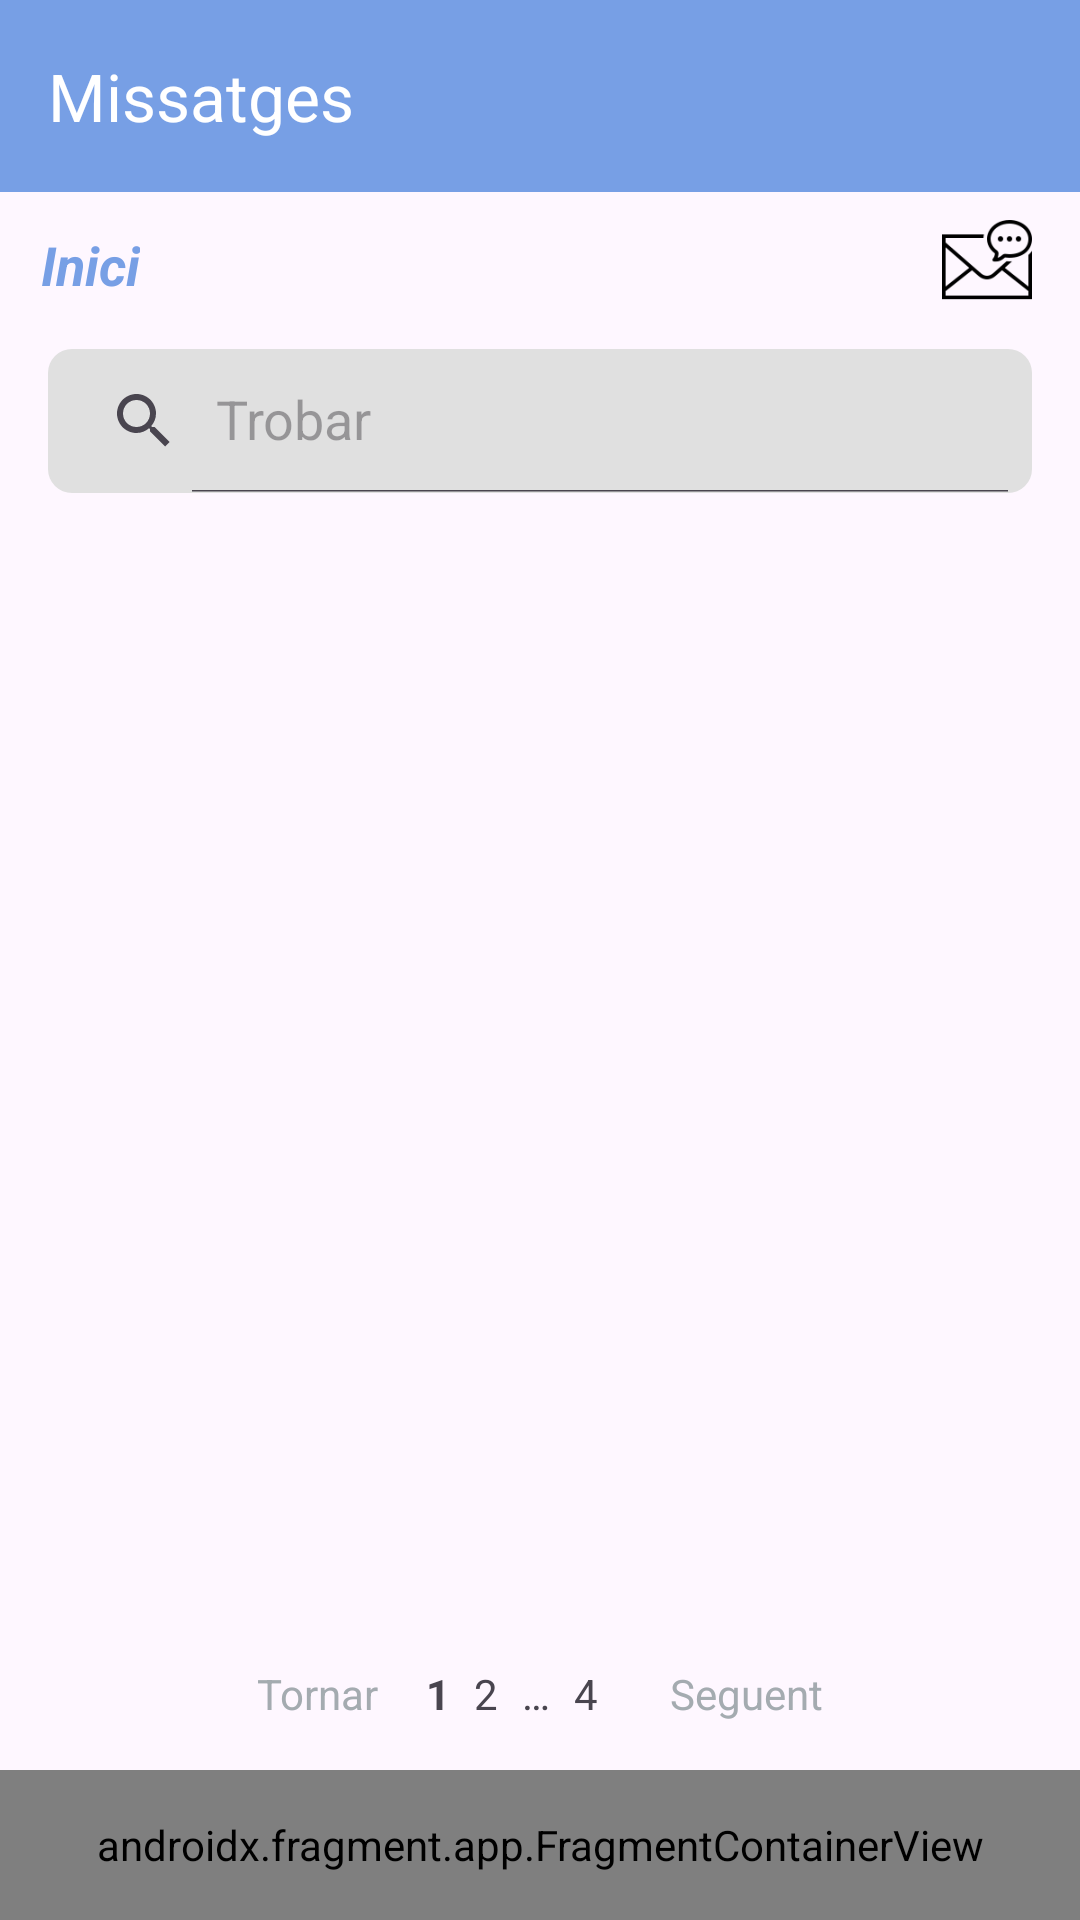

Named icons in this screenshot (1080*1920) and their centers, (x=x, y=y):
wmessageicon: (x=987, y=260)
